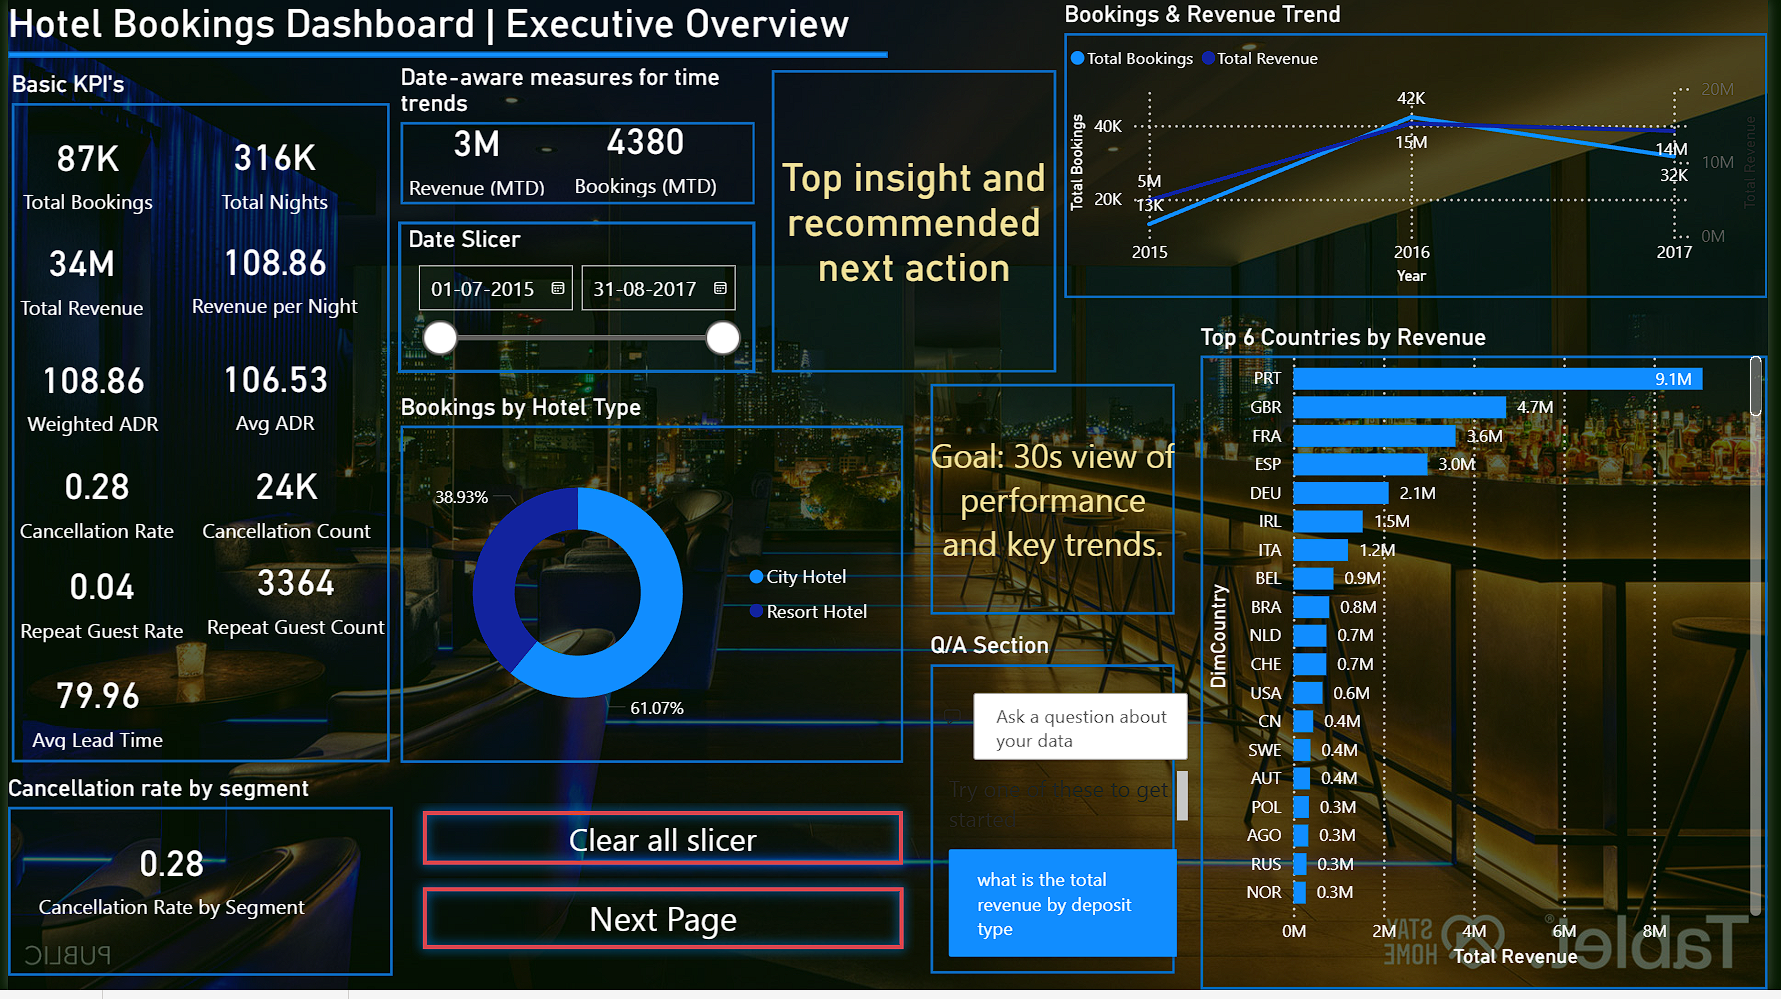

Layout of this report page (visuals, bound fields, positions):
{"tool":"powerbi","page":{"name":"Executive Overview","canvas":[1280,720],"ordinal":0},"visuals":[{"type":"card","fields":{"Values":["Hotel_Bookings_(1)(1).Total Bookings"]},"box":[0,80.2,116.6,87.5],"z":0},{"type":"card","fields":{"Values":["Hotel_Bookings_(1)(1).Total Revenue"]},"box":[0,166.2,107.9,68.5],"z":1000},{"type":"card","fields":{"Values":["Hotel_Bookings_(1)(1).Avg ADR"]},"box":[135.6,246.3,118.2,75.9],"z":2000},{"type":"card","fields":{"Values":["Hotel_Bookings_(1)(1).Cancellation Count"]},"box":[129.7,326.5,145.8,72.9],"z":3000},{"type":"card","fields":{"Values":["Hotel_Bookings_(1)(1).Cancellation Rate"]},"box":[0,325,129.7,74.3],"z":4000},{"type":"card","fields":{"Values":["Hotel_Bookings_(1)(1).Avg Lead Time"]},"box":[2.9,479.5,125.3,71.4],"z":5000},{"type":"card","fields":{"Values":["Hotel_Bookings_(1)(1).Repeat Guest Count"]},"box":[134.1,395,150.1,75.8],"z":6000},{"type":"card","fields":{"Values":["Hotel_Bookings_(1)(1).Repeat Guest Rate"]},"box":[0,399.4,137,72.9],"z":7000},{"type":"card","fields":{"Values":["Hotel_Bookings_(1)(1).Total Nights"]},"box":[124.4,85.8,139.3,75.9],"z":8000},{"type":"card","fields":{"Values":["Hotel_Bookings_(1)(1).Revenue per Night"]},"box":[124.4,160.5,139.3,77.1],"z":9000},{"type":"card","fields":{"Values":["Hotel_Bookings_(1)(1).Weighted ADR"]},"box":[0,246.3,123.9,77.2],"z":10000},{"type":"card","fields":{"Values":["Hotel_Bookings_(1)(1).Cancellation Rate by Segment"]},"box":[2.9,581.6,233.2,109.3],"z":11000},{"type":"card","fields":{"Values":["Hotel_Bookings_(1)(1).Bookings (MTD)"]},"box":[402.3,75.8,122.4,72.9],"z":12000},{"type":"card","fields":{"Values":["Hotel_Bookings_(1)(1).Revenue (MTD)"]},"box":[279.9,78.7,122.4,68.5],"z":13000},{"type":"shape","title":"Hotel Bookings Dashboard | Executive Overview","box":[0,0,639.9,42.3],"z":14000},{"type":"shape","title":"Basic KPI''s","box":[2.5,51,274.9,503.8],"z":15000},{"type":"shape","title":"Cancellation rate by segment","box":[0,562.6,279.9,147.2],"z":16000},{"type":"shape","title":"Date-aware measures for time trends","box":[285.7,45.2,258,103.5],"z":17000},{"type":"slicer","title":"Date Slicer","fields":{"Values":["Date Table.Date"]},"box":[283.6,160.5,260,110.7],"z":18000},{"type":"shape","title":"Bookings & Revenue Trend","box":[768.1,0,511.6,217.2],"z":19000},{"type":"shape","title":"top insight and recommended next action","box":[555.3,51,207,220.1],"z":20000},{"type":"shape","title":"Top 6 Countries by Revenue","box":[867.2,234.7,412.5,485.4],"z":21000},{"type":"shape","title":"Bookings by Hotel Type","box":[285.7,285.7,365.8,269.6],"z":22000},{"type":"lineChart","fields":{"Category":["Date Table.Date.Variation.Date Hierarchy.Year","Date Table.Date.Variation.Date Hierarchy.Quarter","Date Table.Date.Variation.Date Hierarchy.Month","Date Table.Date.Variation.Date Hierarchy.Day"],"Y":["Hotel_Bookings_(1)(1).Total Bookings"],"Y2":["Hotel_Bookings_(1)(1).Total Revenue"]},"box":[767.5,22.4,511.3,189.1],"z":23000},{"type":"donutChart","fields":{"Category":["DimHotelType.DimHotel"],"Y":["Hotel_Bookings_(1)(1).Total Bookings"]},"box":[285.7,310.5,354.2,240.5],"z":24000},{"type":"barChart","fields":{"Category":["DimCountryType.DimCountry"],"Y":["Hotel_Bookings_(1)(1).Total Revenue"]},"box":[867,246.3,413,462.8],"z":25000},{"type":"shape","title":"Q/A Section","box":[670.5,459.1,177.8,249.2],"z":26000},{"type":"shape","title":"Q/A Section","box":[670.5,278.6,177.9,167.9],"z":27000},{"type":"actionButton","title":"Next Page","box":[293.6,636.9,365.7,61],"z":28000},{"type":"qnaVisual","box":[670.5,478.9,196.6,228.9],"z":29000},{"type":"actionButton","title":"Next Page","box":[293.7,581.8,365.2,55.1],"z":30000}]}

Visuals, with their boxes in screenshot pixels (x1, y1, x2, y2), scaled from the page's 1280x720 canvas onto the 1781x999 screenshot:
card - Hotel_Bookings_(1)(1).Total Bookings: bbox=[0, 111, 162, 233]
card - Hotel_Bookings_(1)(1).Total Revenue: bbox=[0, 231, 150, 326]
card - Hotel_Bookings_(1)(1).Avg ADR: bbox=[189, 342, 353, 447]
card - Hotel_Bookings_(1)(1).Cancellation Count: bbox=[180, 453, 383, 554]
card - Hotel_Bookings_(1)(1).Cancellation Rate: bbox=[0, 451, 180, 554]
card - Hotel_Bookings_(1)(1).Avg Lead Time: bbox=[4, 665, 178, 764]
card - Hotel_Bookings_(1)(1).Repeat Guest Count: bbox=[187, 548, 395, 653]
card - Hotel_Bookings_(1)(1).Repeat Guest Rate: bbox=[0, 554, 191, 655]
card - Hotel_Bookings_(1)(1).Total Nights: bbox=[173, 119, 367, 224]
card - Hotel_Bookings_(1)(1).Revenue per Night: bbox=[173, 223, 367, 330]
card - Hotel_Bookings_(1)(1).Weighted ADR: bbox=[0, 342, 172, 449]
card - Hotel_Bookings_(1)(1).Cancellation Rate by Segment: bbox=[4, 807, 329, 959]
card - Hotel_Bookings_(1)(1).Bookings (MTD): bbox=[560, 105, 730, 206]
card - Hotel_Bookings_(1)(1).Revenue (MTD): bbox=[389, 109, 560, 204]
"Hotel Bookings Dashboard | Executive Overview" shape: bbox=[0, 0, 890, 59]
"Basic KPI''s" shape: bbox=[3, 71, 386, 770]
"Cancellation rate by segment" shape: bbox=[0, 781, 389, 985]
"Date-aware measures for time trends" shape: bbox=[398, 63, 757, 206]
"Date Slicer" slicer: bbox=[395, 223, 756, 376]
"Bookings & Revenue Trend" shape: bbox=[1069, 0, 1780, 301]
"top insight and recommended next action" shape: bbox=[773, 71, 1061, 376]
"Top 6 Countries by Revenue" shape: bbox=[1207, 326, 1780, 998]
"Bookings by Hotel Type" shape: bbox=[398, 396, 907, 770]
lineChart - Date Table.Date.Variation.Date Hierarchy.Year x Date Table.Date.Variation.Date Hierarchy.Quarter: bbox=[1068, 31, 1779, 293]
donutChart - DimHotelType.DimHotel x Hotel_Bookings_(1)(1).Total Bookings: bbox=[398, 431, 890, 765]
barChart - DimCountryType.DimCountry x Hotel_Bookings_(1)(1).Total Revenue: bbox=[1206, 342, 1780, 984]
"Q/A Section" shape: bbox=[933, 637, 1180, 983]
"Q/A Section" shape: bbox=[933, 387, 1180, 620]
"Next Page" actionButton: bbox=[409, 884, 917, 968]
qnaVisual: bbox=[933, 664, 1206, 982]
"Next Page" actionButton: bbox=[409, 807, 917, 884]
